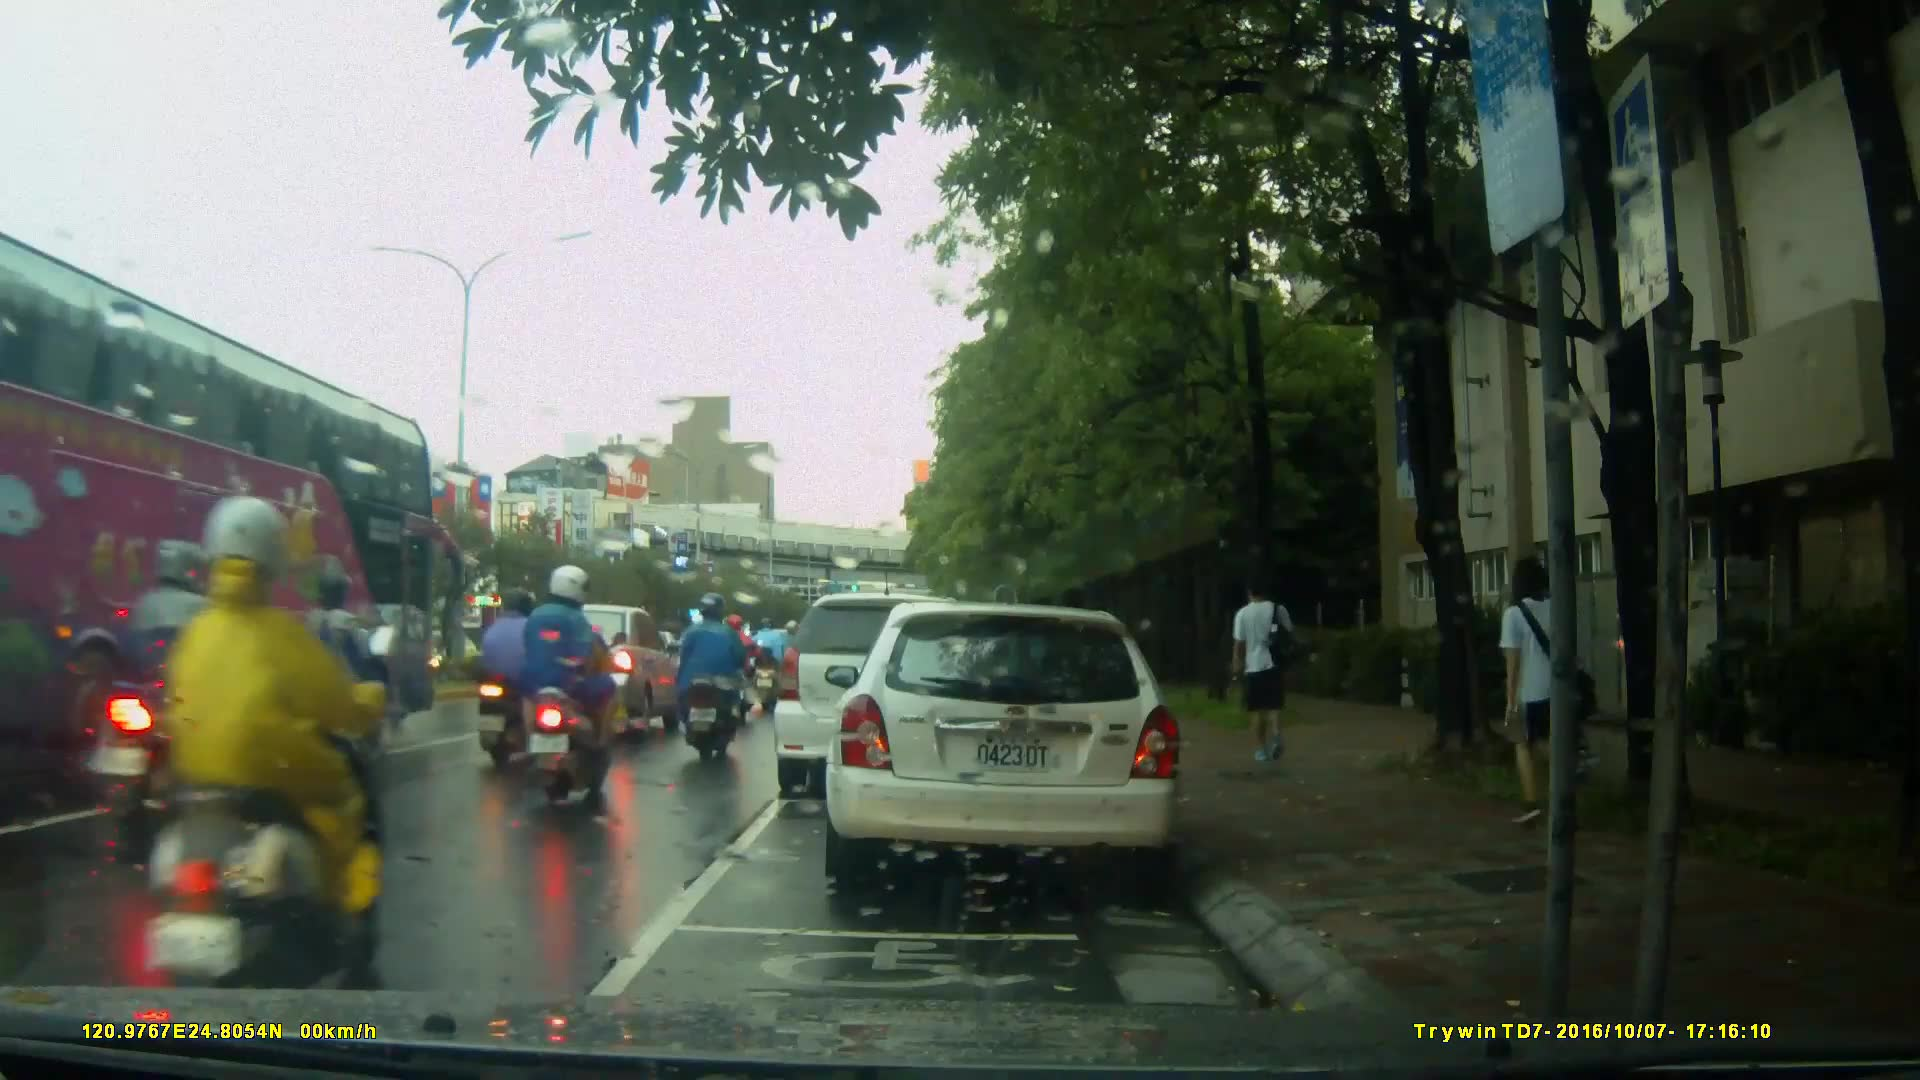pedestrian: (1487, 559, 1588, 846), (1220, 573, 1300, 771)
rider: (146, 494, 389, 1024), (96, 546, 254, 848), (277, 562, 406, 819), (514, 565, 629, 816), (481, 586, 572, 774), (681, 597, 744, 763), (712, 608, 765, 720), (748, 614, 791, 704)
vehicle: (1, 234, 449, 793), (835, 594, 1194, 898), (776, 590, 1026, 784), (523, 603, 691, 746)
